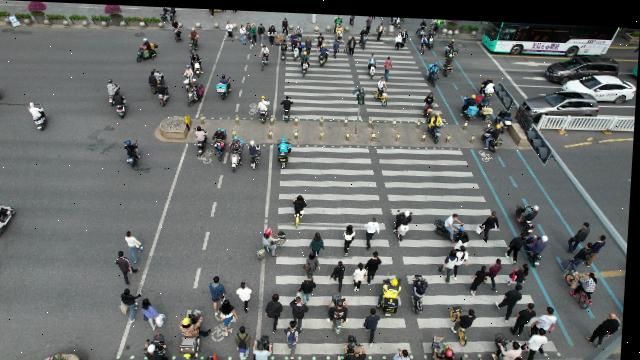non-motor-vehicle: (569, 266, 601, 304), (452, 300, 480, 343), (182, 306, 206, 355), (330, 291, 355, 332), (260, 223, 289, 258), (436, 209, 472, 237), (143, 332, 179, 360), (341, 330, 372, 360), (386, 271, 409, 311), (504, 328, 531, 360), (530, 229, 553, 264), (433, 330, 458, 360), (516, 197, 542, 225), (396, 205, 417, 238), (414, 271, 431, 311), (482, 119, 505, 148), (27, 102, 50, 131), (230, 134, 247, 171), (427, 108, 447, 139), (137, 35, 159, 63), (123, 138, 143, 166), (248, 137, 264, 171), (277, 134, 294, 164), (217, 69, 234, 99), (215, 125, 229, 161), (462, 89, 480, 116), (295, 192, 309, 226), (188, 80, 206, 106), (195, 124, 211, 153), (374, 78, 390, 103), (281, 91, 294, 121), (479, 91, 495, 115), (114, 90, 128, 117), (257, 93, 270, 120), (193, 49, 206, 75), (107, 76, 119, 104), (149, 66, 162, 91), (158, 81, 172, 103), (427, 58, 439, 82), (368, 49, 379, 75), (183, 63, 194, 89), (464, 351, 494, 360), (445, 35, 460, 53), (200, 350, 226, 360), (498, 103, 509, 126), (481, 72, 495, 90), (260, 43, 270, 68), (302, 49, 311, 76), (319, 42, 330, 63), (424, 90, 434, 112), (442, 52, 453, 72), (190, 28, 200, 48), (359, 25, 368, 46), (280, 38, 288, 60), (161, 6, 172, 22), (292, 41, 302, 58), (430, 16, 445, 27), (417, 15, 426, 33), (428, 25, 436, 45), (335, 22, 344, 38), (420, 31, 427, 51), (391, 14, 405, 24), (333, 12, 342, 26), (295, 23, 303, 36)
person: (588, 306, 624, 342), (498, 279, 530, 319), (115, 249, 145, 287), (526, 326, 554, 360), (536, 303, 566, 334), (566, 236, 594, 269), (267, 287, 287, 333), (144, 296, 172, 328), (125, 227, 151, 261), (124, 286, 146, 325), (237, 275, 260, 312), (209, 272, 231, 310), (477, 206, 502, 239), (287, 318, 307, 358), (518, 298, 543, 330), (237, 322, 258, 360), (439, 243, 460, 281), (366, 303, 385, 344), (571, 214, 593, 249), (507, 227, 530, 260), (369, 248, 390, 283), (472, 260, 494, 292), (222, 295, 240, 334), (364, 213, 384, 248), (590, 228, 611, 261), (489, 253, 509, 287), (291, 294, 311, 326), (455, 239, 472, 276), (332, 258, 352, 289), (512, 258, 535, 283), (300, 273, 321, 300), (342, 220, 359, 253), (354, 258, 370, 290), (313, 229, 332, 254), (307, 250, 326, 273), (458, 225, 474, 248), (395, 341, 414, 360), (171, 17, 184, 41), (384, 53, 393, 78), (256, 20, 265, 42), (348, 34, 357, 55), (281, 14, 289, 36), (375, 19, 384, 38), (363, 13, 372, 31), (394, 28, 402, 48), (226, 19, 234, 39), (268, 22, 276, 41), (332, 37, 340, 55), (402, 24, 409, 44), (317, 31, 324, 50), (306, 33, 313, 52), (251, 23, 257, 43), (240, 22, 246, 41), (290, 30, 296, 47), (349, 12, 356, 24), (247, 21, 251, 37)
